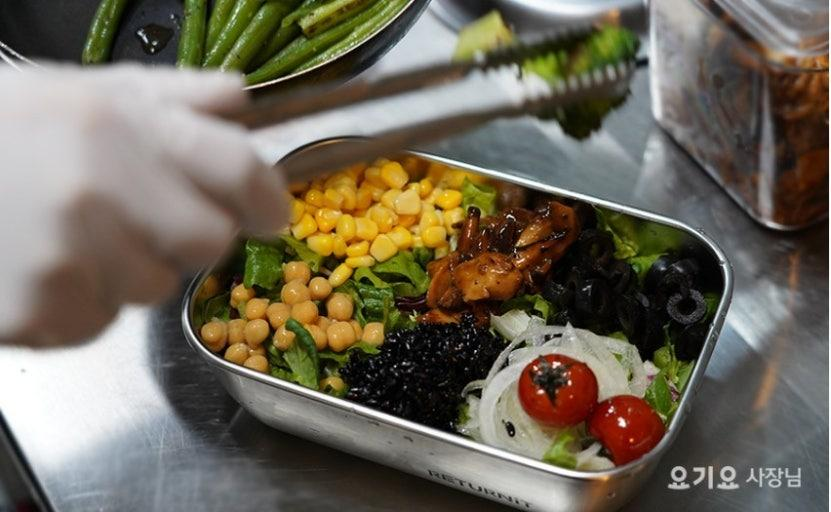Lunch Box: (183, 151, 731, 511), (649, 0, 828, 229)
